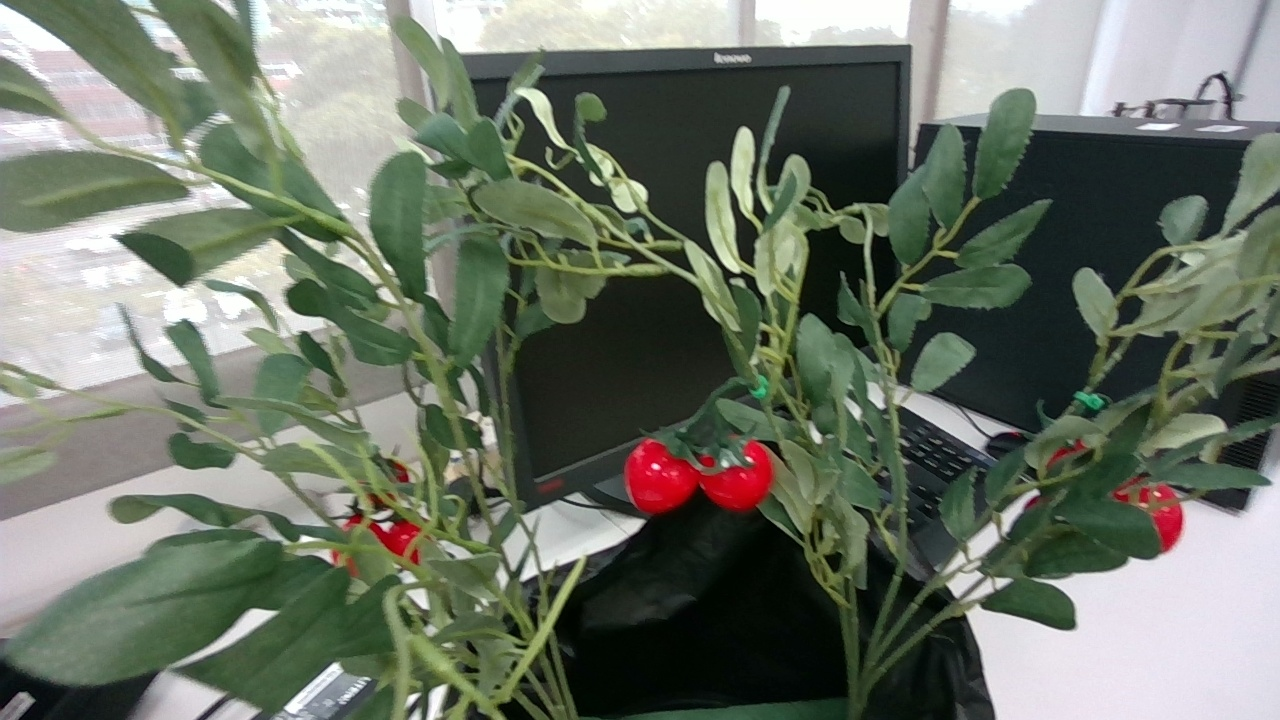peduncle: (707, 377, 738, 404)
strawberry: (625, 438, 702, 515), (700, 440, 775, 512), (1142, 485, 1187, 552), (369, 520, 420, 564)
